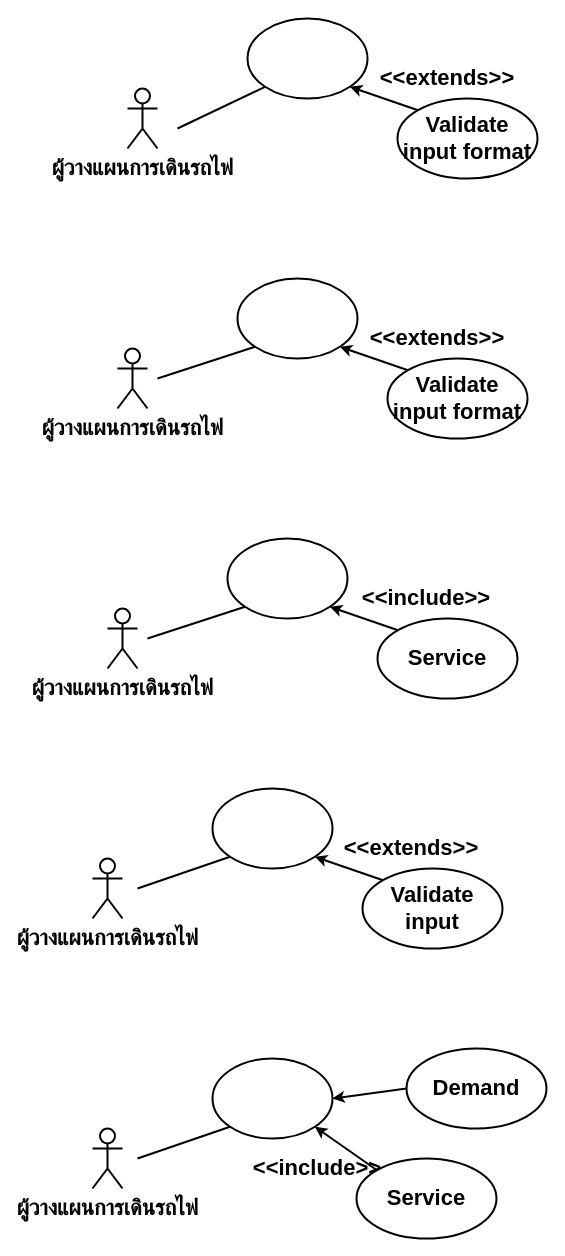
This 565x1256 diagram has some shape labels left out. Each missing label, with the box of its shape:
Add Demand: (246, 17, 368, 99)
Add Service: (236, 277, 358, 359)
Customize Configuration: (211, 787, 333, 869)
Generate Service: (211, 1057, 333, 1139)
Manual Add Service: (226, 537, 348, 619)
